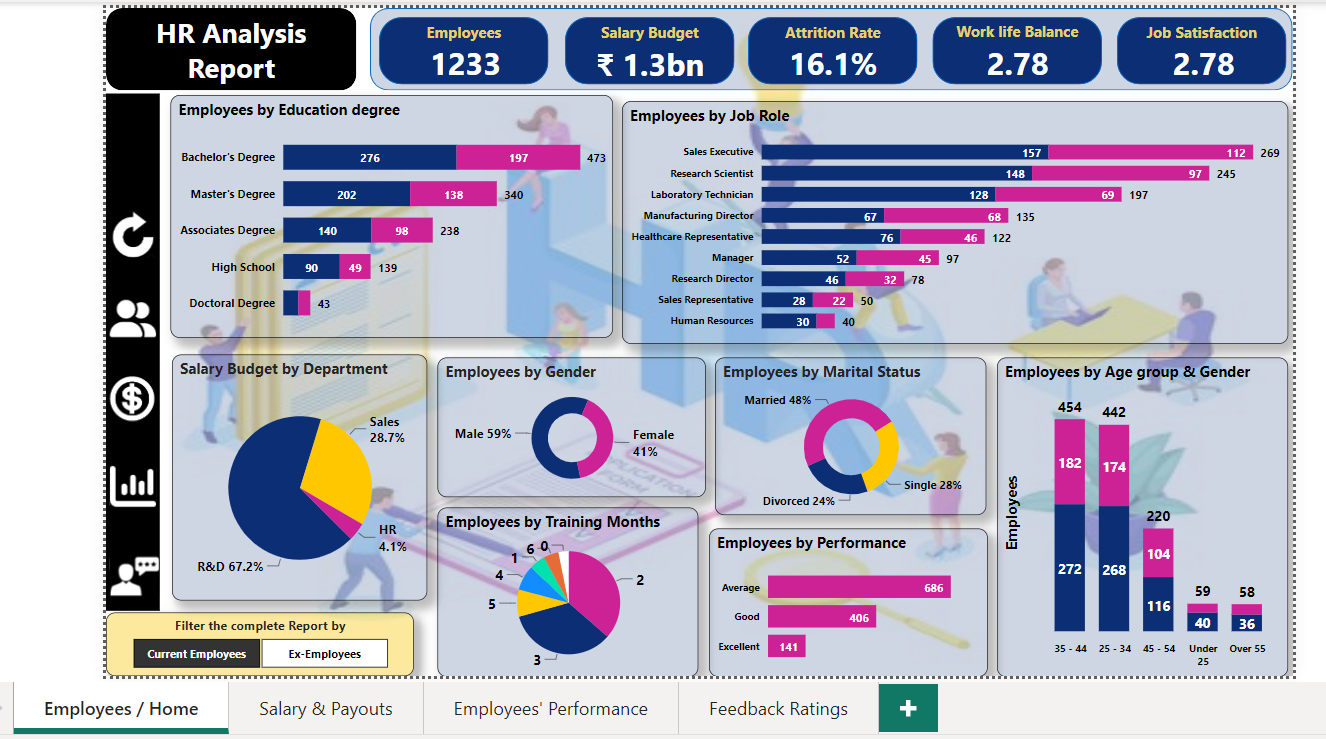

This screenshot's page, from the dashboard's own definition file:
{"tool":"powerbi","page":{"name":"Employees / Home","canvas":[1280,720],"ordinal":0},"visuals":[{"type":"shape","title":"Report Title grp","box":[0,0,270.2,89],"z":0},{"type":"shape","title":"backgroung","box":[284.8,0,995.1,89],"z":0,"group":"g3"},{"type":"shape","box":[294.5,9.4,182.8,72.8],"z":0,"group":"g2"},{"type":"shape","box":[494.7,9.4,182.8,72.8],"z":0,"group":"g1"},{"type":"shape","box":[693.3,9.4,182.8,72.8],"z":0,"group":"g4"},{"type":"shape","box":[1090.6,9.4,182.8,72.8],"z":0,"group":"g5"},{"type":"shape","box":[891.9,10.2,182.8,72.8],"z":0,"group":"g7"},{"type":"actionButton","box":[0,212,58.2,64.7],"z":0,"group":"g8"},{"type":"pieChart","title":"Salary Budget by Department","fields":{"Category":["Employees.Department"],"Y":["Measures Table.#10 Salary Budget"]},"box":[70.5,372.3,275.1,265.3],"z":0,"group":"g6"},{"type":"textbox","box":[891.9,8.6,182.8,37.2],"z":1000,"group":"g7"},{"type":"textbox","box":[294.5,9.4,182.8,37.2],"z":1000,"group":"g2"},{"type":"group","id":"g1","title":"Group 1","box":[494.7,9.4,182.8,72.8],"z":1000,"group":"g3"},{"type":"textbox","box":[494.7,9.4,182.8,37.2],"z":1000,"group":"g1"},{"type":"textbox","box":[693.3,9.4,182.8,37.2],"z":1000,"group":"g4"},{"type":"textbox","box":[1090.6,9.4,182.8,37.2],"z":1000,"group":"g5"},{"type":"shape","box":[0,92.2,58.2,558.2],"z":1000},{"type":"actionButton","box":[0,305.8,58.2,58.2],"z":1000,"group":"g8"},{"type":"columnChart","title":"Employees by Age group & Gender","fields":{"Category":["Employees.Age Group"],"Y":["Measures Table.#1 Total Employees"],"Series":["Employees.Gender"]},"box":[960.4,375.5,313.9,344.6],"z":1000,"group":"g6"},{"type":"group","id":"g2","title":"Group 2","box":[294.5,9.4,184.4,72.8],"z":2000,"group":"g3"},{"type":"card","title":"card","fields":{"Values":["Measures Table.#1 Total Employees"]},"box":[296.1,35.3,182.8,46.9],"z":2000,"group":"g2"},{"type":"card","title":"card","fields":{"Values":["Measures Table.#5 Attrition Rate"]},"box":[693.3,35.3,182.8,46.9],"z":2000,"group":"g4"},{"type":"card","title":"card","fields":{"Values":["Measures Table.#7 Rating Job Satisfaction"]},"box":[1092.2,35.3,182.8,46.9],"z":2000,"group":"g5"},{"type":"card","title":"card","fields":{"Values":["Measures Table.#9 Rating Work life Balance"]},"box":[891.9,36.1,182.8,46.9],"z":2000,"group":"g7"},{"type":"card","title":"card","fields":{"Values":["Measures Table.#10 Salary Budget"]},"box":[494.7,38.5,182.8,43.7],"z":2000,"group":"g1"},{"type":"barChart","title":"Employees by Education degree","fields":{"Category":["Employees.Education"],"Y":["Measures Table.#1 Total Employees"],"Series":["Employees.Gender"]},"box":[69.4,93.1,477.3,262.1],"z":2000,"group":"g6"},{"type":"actionButton","box":[0,393.2,58.2,56.6],"z":2000,"group":"g8"},{"type":"slicer","title":"Filter the complete Report by","fields":{"Values":["Employees.attrition label"]},"box":[0,651.7,331.7,68.3],"z":2000},{"type":"group","id":"g3","title":"KPIs #group","box":[284.8,0,995.1,89],"z":3000},{"type":"group","id":"g4","title":"Group 3","box":[693.3,9.4,182.8,72.8],"z":3000,"group":"g3"},{"type":"donutChart","title":"Employees by Gender ","fields":{"Category":["Employees.Gender"],"Y":["Measures Table.#1 Total Employees"]},"box":[356.9,375.5,289.6,150.5],"z":3000,"group":"g6"},{"type":"actionButton","box":[0,479,58.2,74.4],"z":3000,"group":"g8"},{"type":"group","id":"g5","title":"Group 4","box":[1090.6,9.4,184.4,72.8],"z":4000,"group":"g3"},{"type":"group","id":"g6","title":"All charts #group","box":[69.4,93.1,1204.9,627],"z":4000},{"type":"donutChart","title":"Employees by Marital Status","fields":{"Y":["Measures Table.#1 Total Employees"],"Category":["Salary & Payouts.Marital Status"]},"box":[657.3,375.5,292.9,169.9],"z":4000,"group":"g6"},{"type":"actionButton","box":[0,582.5,69.6,61.5],"z":4000,"group":"g8"},{"type":"group","id":"g7","title":"Group 5","box":[891.9,8.6,182.8,74.4],"z":5000,"group":"g3"},{"type":"group","id":"g8","title":"Group 6","box":[0,212,69.6,432],"z":5000},{"type":"pieChart","title":"Employees by Training Months","fields":{"Category":["Salary & Payouts.Training Times Last Year (Months)"],"Y":["Measures Table.#1 Total Employees"]},"box":[356.9,537.3,281.5,182.8],"z":5000,"group":"g6"},{"type":"barChart","title":"Employees by Job Role","fields":{"Y":["Measures Table.#1 Total Employees"],"Series":["Employees.Gender"],"Category":["Employees.Job Role"]},"box":[555.9,98.8,718.4,262.1],"z":6000,"group":"g6"},{"type":"barChart","fields":{"Category":["Salary & Payouts.Performance"],"Y":["Measures Table.#1 Total Employees"]},"box":[649.7,560,300.9,160.2],"z":7000,"group":"g6"}]}

Visuals, with their boxes on the page's 1280x720 design canvas (x1, y1, x2, y2). These are canvas units, not pixel positions in the 1326x739 screenshot, which may show the page scaled, cropped or inside an application window:
"Report Title grp" shape: 0,0,270,89
"backgroung" shape: 285,0,1280,89
shape: 294,9,477,82
shape: 495,9,678,82
shape: 693,9,876,82
shape: 1091,9,1273,82
shape: 892,10,1075,83
actionButton: 0,212,58,277
"Salary Budget by Department" pieChart: 70,372,346,638
textbox: 892,9,1075,46
textbox: 294,9,477,47
"Group 1" group: 495,9,678,82
textbox: 495,9,678,47
textbox: 693,9,876,47
textbox: 1091,9,1273,47
shape: 0,92,58,650
actionButton: 0,306,58,364
"Employees by Age group & Gender" columnChart: 960,376,1274,720
"Group 2" group: 294,9,479,82
"card" card: 296,35,479,82
"card" card: 693,35,876,82
"card" card: 1092,35,1275,82
"card" card: 892,36,1075,83
"card" card: 495,38,678,82
"Employees by Education degree" barChart: 69,93,547,355
actionButton: 0,393,58,450
"Filter the complete Report by" slicer: 0,652,332,720
"KPIs #group" group: 285,0,1280,89
"Group 3" group: 693,9,876,82
"Employees by Gender " donutChart: 357,376,646,526
actionButton: 0,479,58,553
"Group 4" group: 1091,9,1275,82
"All charts #group" group: 69,93,1274,720
"Employees by Marital Status" donutChart: 657,376,950,545
actionButton: 0,582,70,644
"Group 5" group: 892,9,1075,83
"Group 6" group: 0,212,70,644
"Employees by Training Months" pieChart: 357,537,638,720
"Employees by Job Role" barChart: 556,99,1274,361
barChart - Salary & Payouts.Performance x Measures Table.#1 Total Employees: 650,560,951,720
